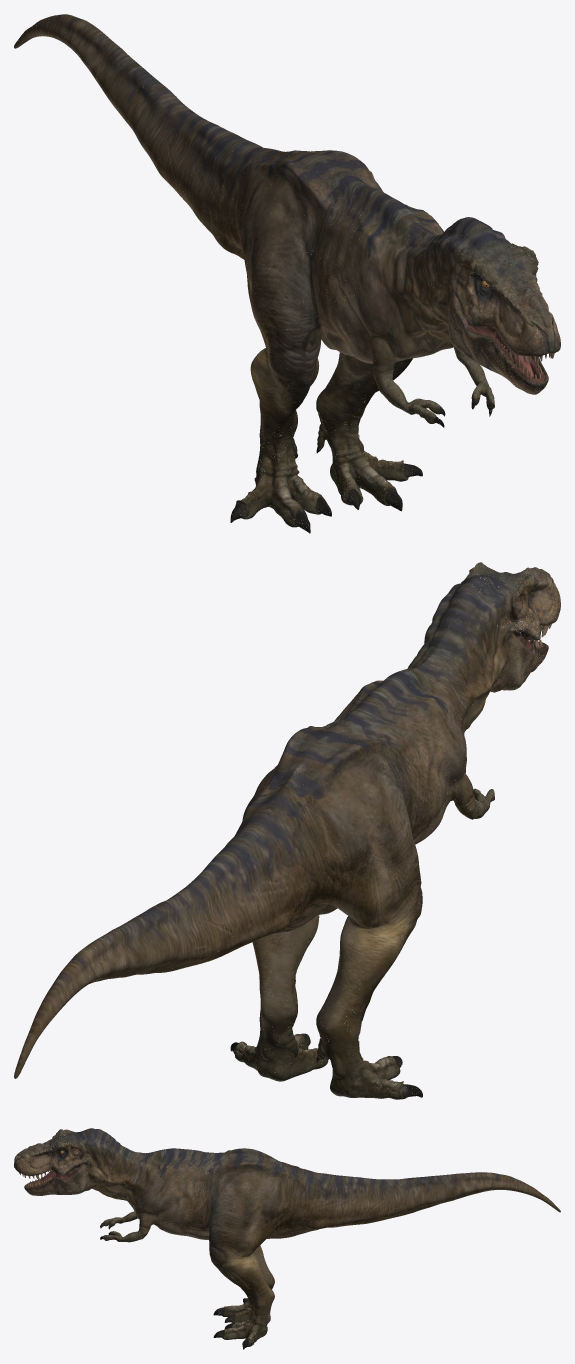
File: t_rex.glb
The picture shows the model from 3 angles, top to bottom: view 1: azimuth 30°, elevation 25°; view 2: azimuth 150°, elevation 25°; view 3: azimuth 270°, elevation 25°; orthographic projection. The views are drawn at different scales.
Visible parts, largest first — view 1: Untitledobjcleanermaterialmergergles; view 2: Untitledobjcleanermaterialmergergles; view 3: Untitledobjcleanermaterialmergergles.
Boxes of the visible parts, left/top/right/bottom form: Untitledobjcleanermaterialmergergles: left=14, top=14, right=560, bottom=533; Untitledobjcleanermaterialmergergles: left=14, top=562, right=560, bottom=1099; Untitledobjcleanermaterialmergergles: left=14, top=1128, right=560, bottom=1349.
Size of the model in its own units: 6.6 by 12.83 by 31.98.
Materials: 2 (2 with a texture image).
